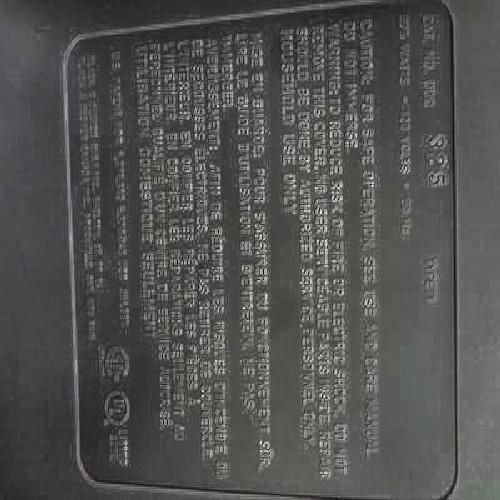coffee_maker: (59, 31, 465, 486)
